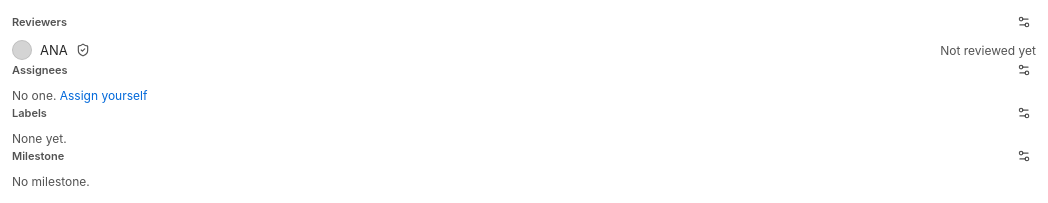
Scenario: Reviewers › explains a code owner in a tooltip
Hover over the icon named "Code owner" at (83, 50), box 76,43 -> 90,57
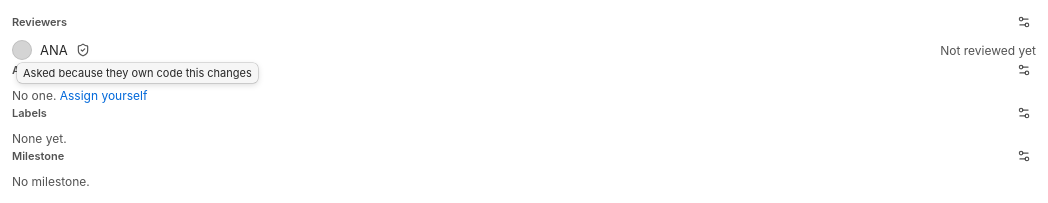
Now the text "Asked because they own code this changes" is shown, box 17,63 -> 258,83
